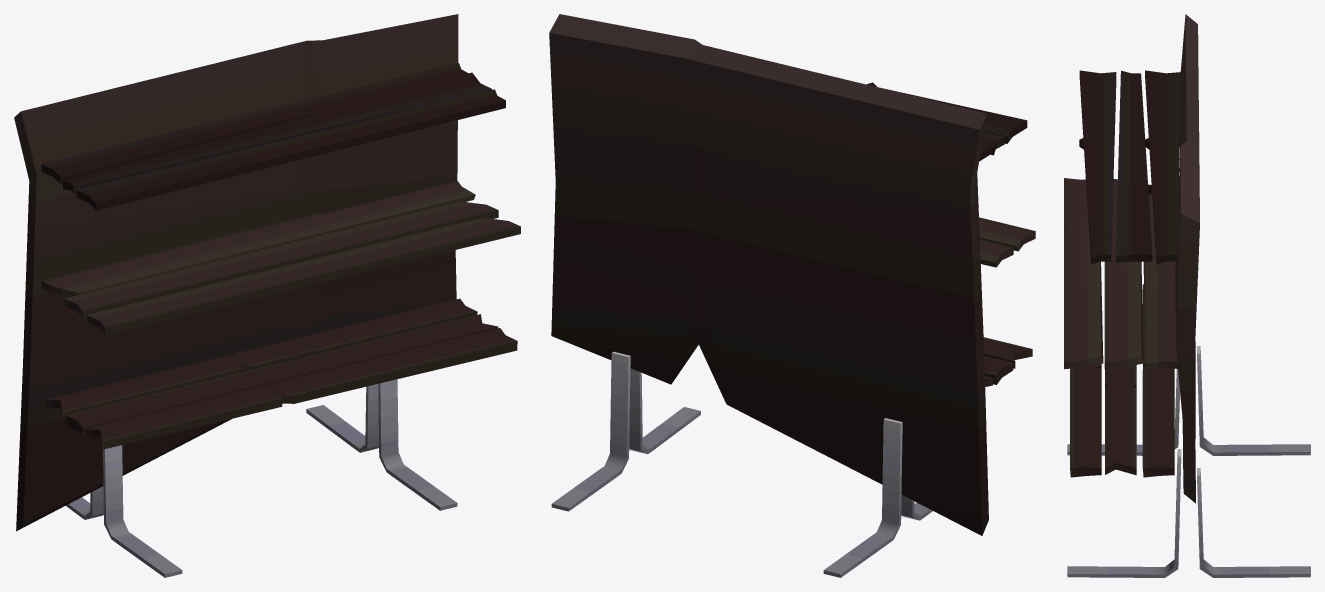
The model's file is SM_Shelving.fbx.
3 views of the same model, side by side, from view 1: azimuth 30°, elevation 25°; view 2: azimuth 150°, elevation 25°; view 3: azimuth 270°, elevation 25° (orthographic). The views are drawn at different scales.
Visible parts, largest first — view 1: Shelving; view 2: Shelving; view 3: Shelving.
Part boxes in pixels (<box>): Shelving: <box>14,14,520,577</box>; Shelving: <box>549,14,1035,577</box>; Shelving: <box>1064,14,1310,577</box>.
Bounding box in the file's own units: 189 × 183 × 102.
